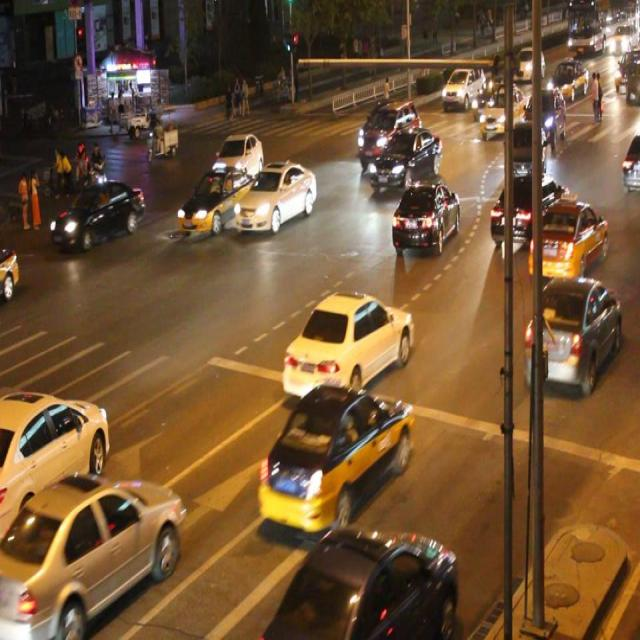car: (0, 471, 182, 640), (256, 378, 413, 530), (265, 521, 456, 640), (0, 390, 110, 524), (281, 287, 412, 399), (524, 274, 620, 392), (50, 177, 146, 248), (526, 197, 608, 275), (489, 174, 572, 247), (233, 160, 316, 231), (390, 178, 460, 254), (176, 167, 255, 232), (368, 126, 442, 187), (359, 100, 420, 170), (212, 132, 264, 190), (479, 84, 526, 140), (503, 120, 544, 184), (356, 101, 402, 150), (619, 135, 640, 189), (1, 242, 20, 300)
